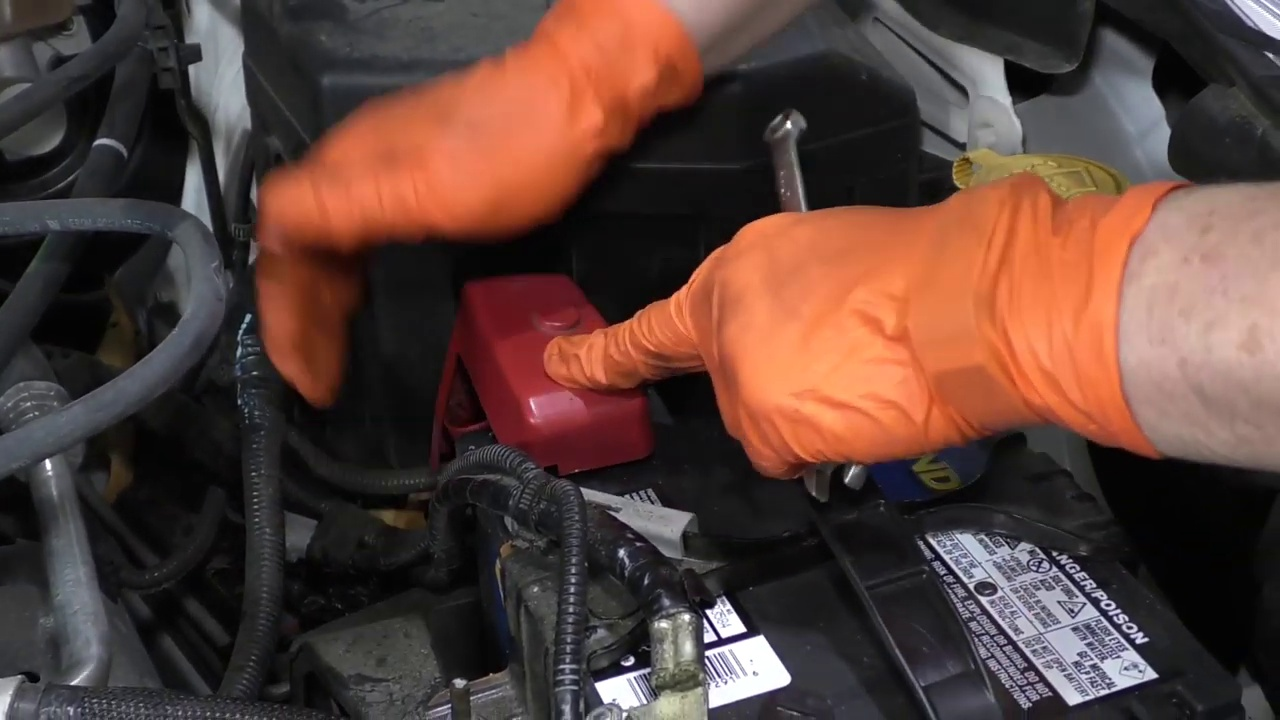battery: (427, 272, 1247, 720)
pos_touched: (409, 226, 881, 490)
